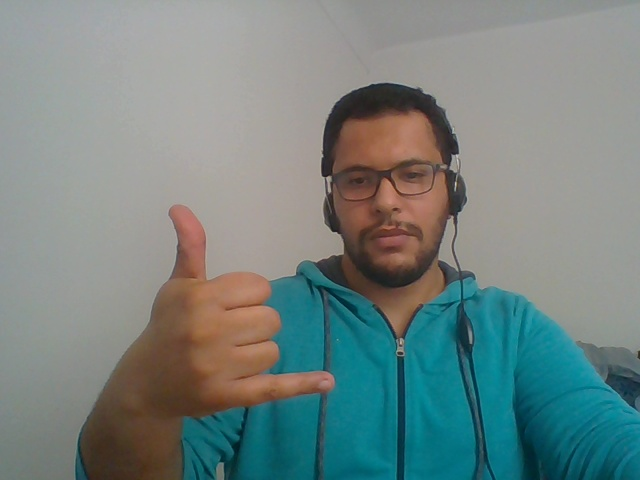callme: (90, 173, 335, 480)
